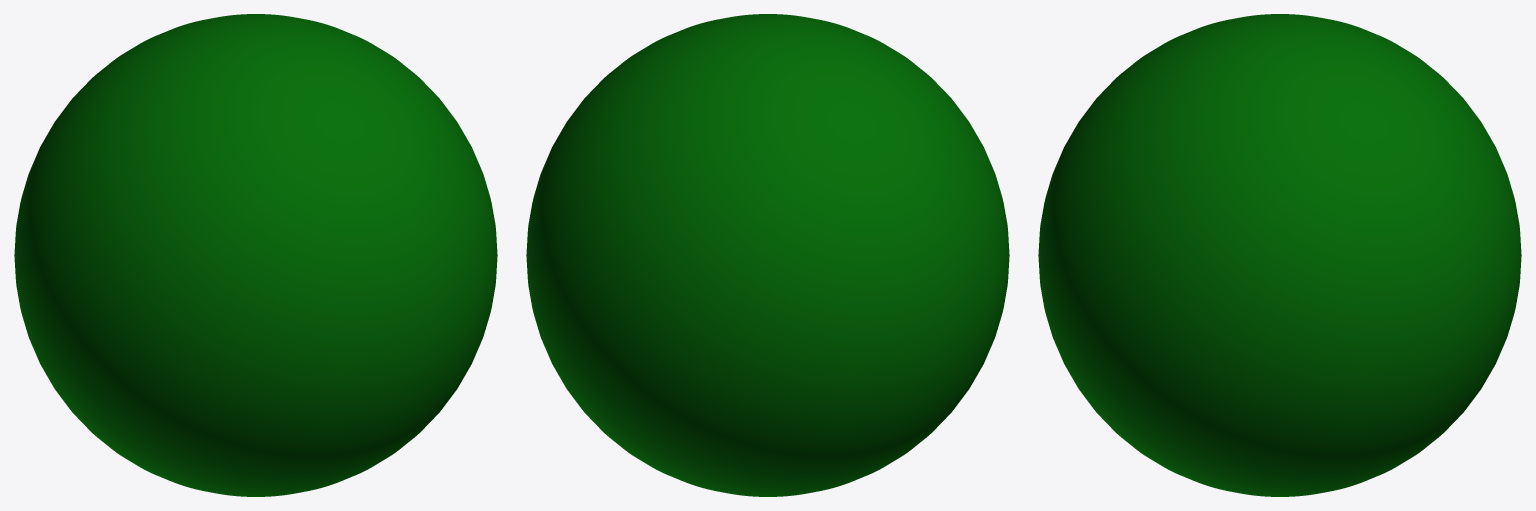
The model's file is marble_green.gltf.
3 views of the same model, side by side, from view 1: azimuth 30°, elevation 25°; view 2: azimuth 150°, elevation 25°; view 3: azimuth 270°, elevation 25° (orthographic).
Parts seen in each view (by area): view 1: Sphere; view 2: Sphere; view 3: Sphere.
Boxes of the visible parts, x1=… form: Sphere: x1=14, y1=14, x2=497, y2=496; Sphere: x1=526, y1=14, x2=1009, y2=496; Sphere: x1=1038, y1=14, x2=1521, y2=496.
Bounding box in the file's own units: 0.1249 × 0.125 × 0.125.
